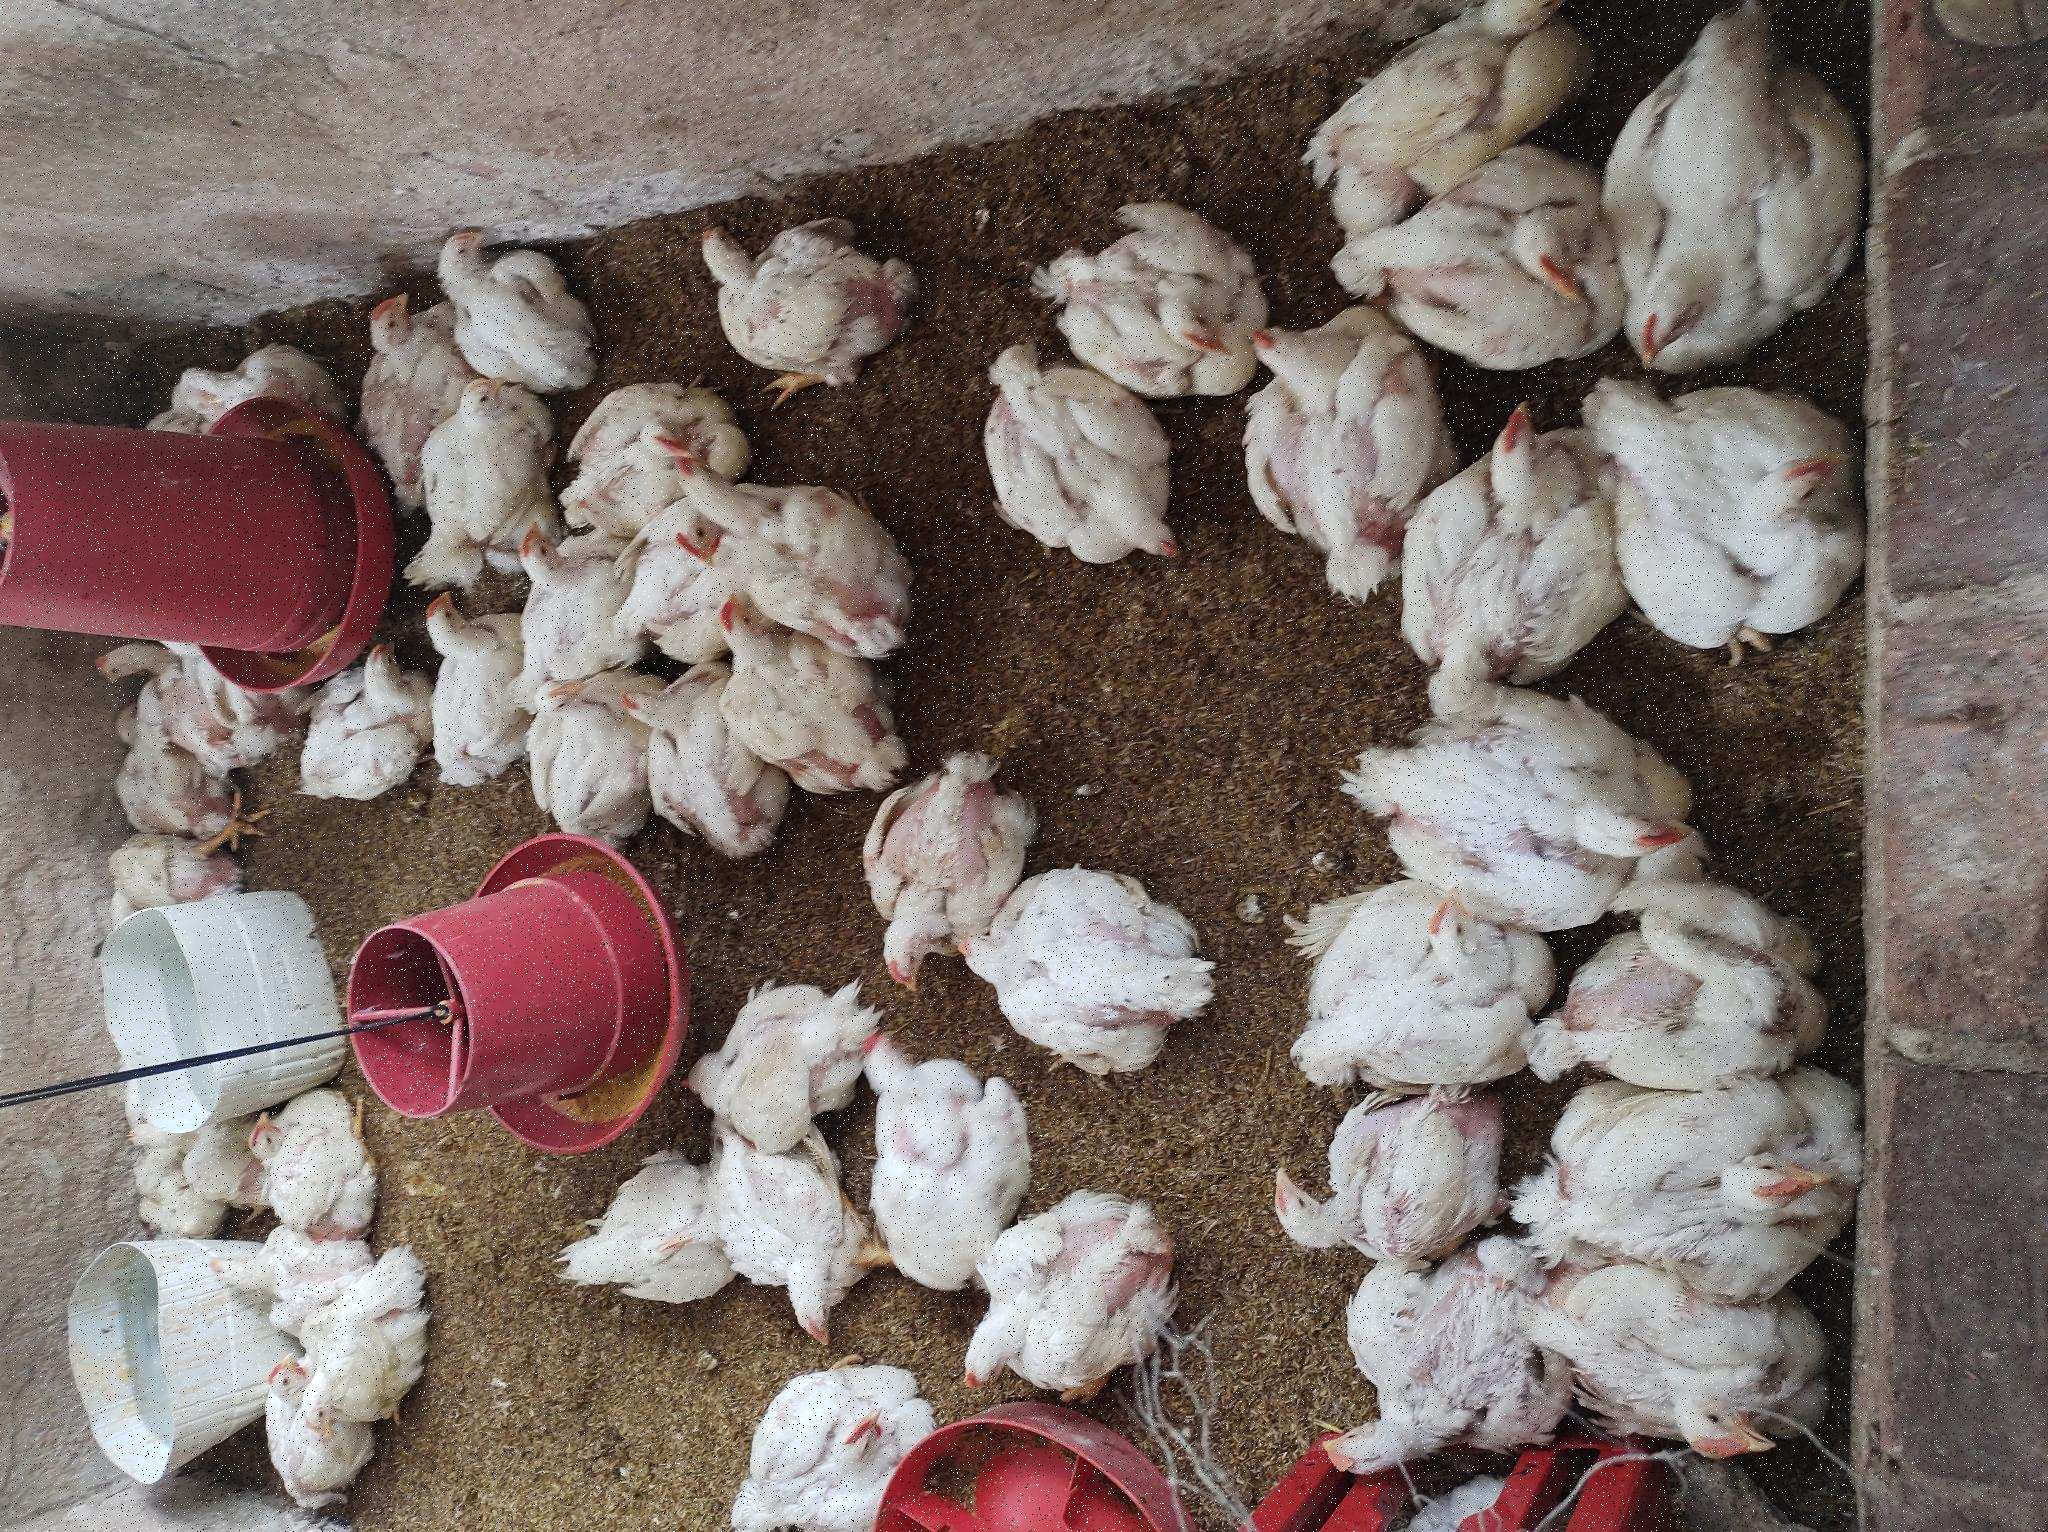Pollos: (1131, 684, 1364, 920), (455, 966, 668, 1220), (63, 1291, 282, 1532), (121, 957, 352, 1183), (1141, 1025, 1364, 1254), (1001, 1226, 1211, 1456), (286, 1263, 465, 1532), (442, 1291, 645, 1522), (951, 975, 1139, 1186), (1149, 1357, 1369, 1532), (550, 867, 787, 1025), (848, 1394, 1108, 1532), (1369, 1316, 1533, 1532), (2, 718, 166, 932), (243, 861, 497, 998), (615, 1398, 874, 1532), (212, 541, 383, 729), (405, 689, 573, 879), (742, 723, 943, 880), (182, 735, 399, 858), (975, 414, 1162, 555), (1157, 438, 1313, 591), (98, 307, 262, 443), (771, 80, 888, 262), (729, 298, 899, 422), (298, 249, 450, 380), (603, 105, 706, 282), (1084, 333, 1240, 441), (859, 518, 1014, 626), (779, 423, 943, 525), (729, 616, 856, 747), (698, 531, 862, 616), (1047, 583, 1144, 706), (1115, 174, 1189, 335), (212, 195, 301, 307), (1023, 668, 1071, 769), (365, 106, 412, 196), (116, 249, 177, 312), (972, 682, 1010, 731), (787, 111, 829, 146)
